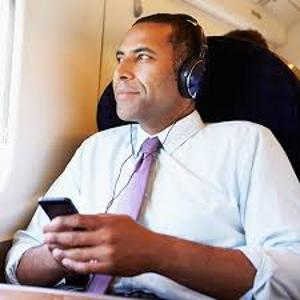Headphones: (147, 12, 207, 99)
